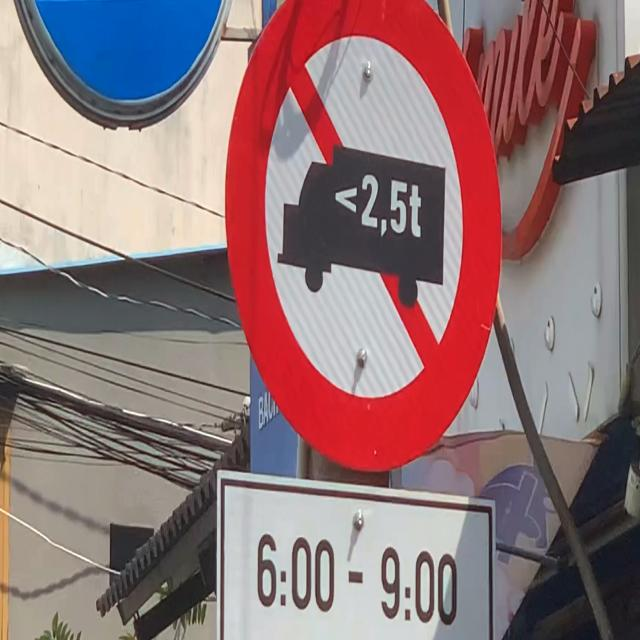Cam con lai: (224, 0, 504, 475)
